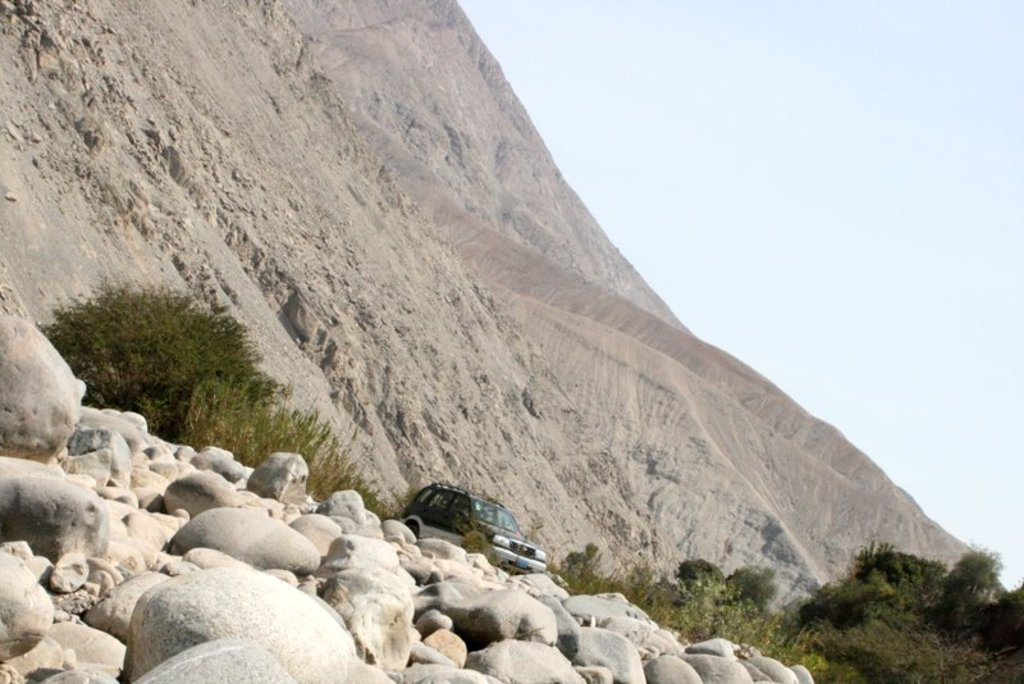Car: (400, 477, 545, 571)
